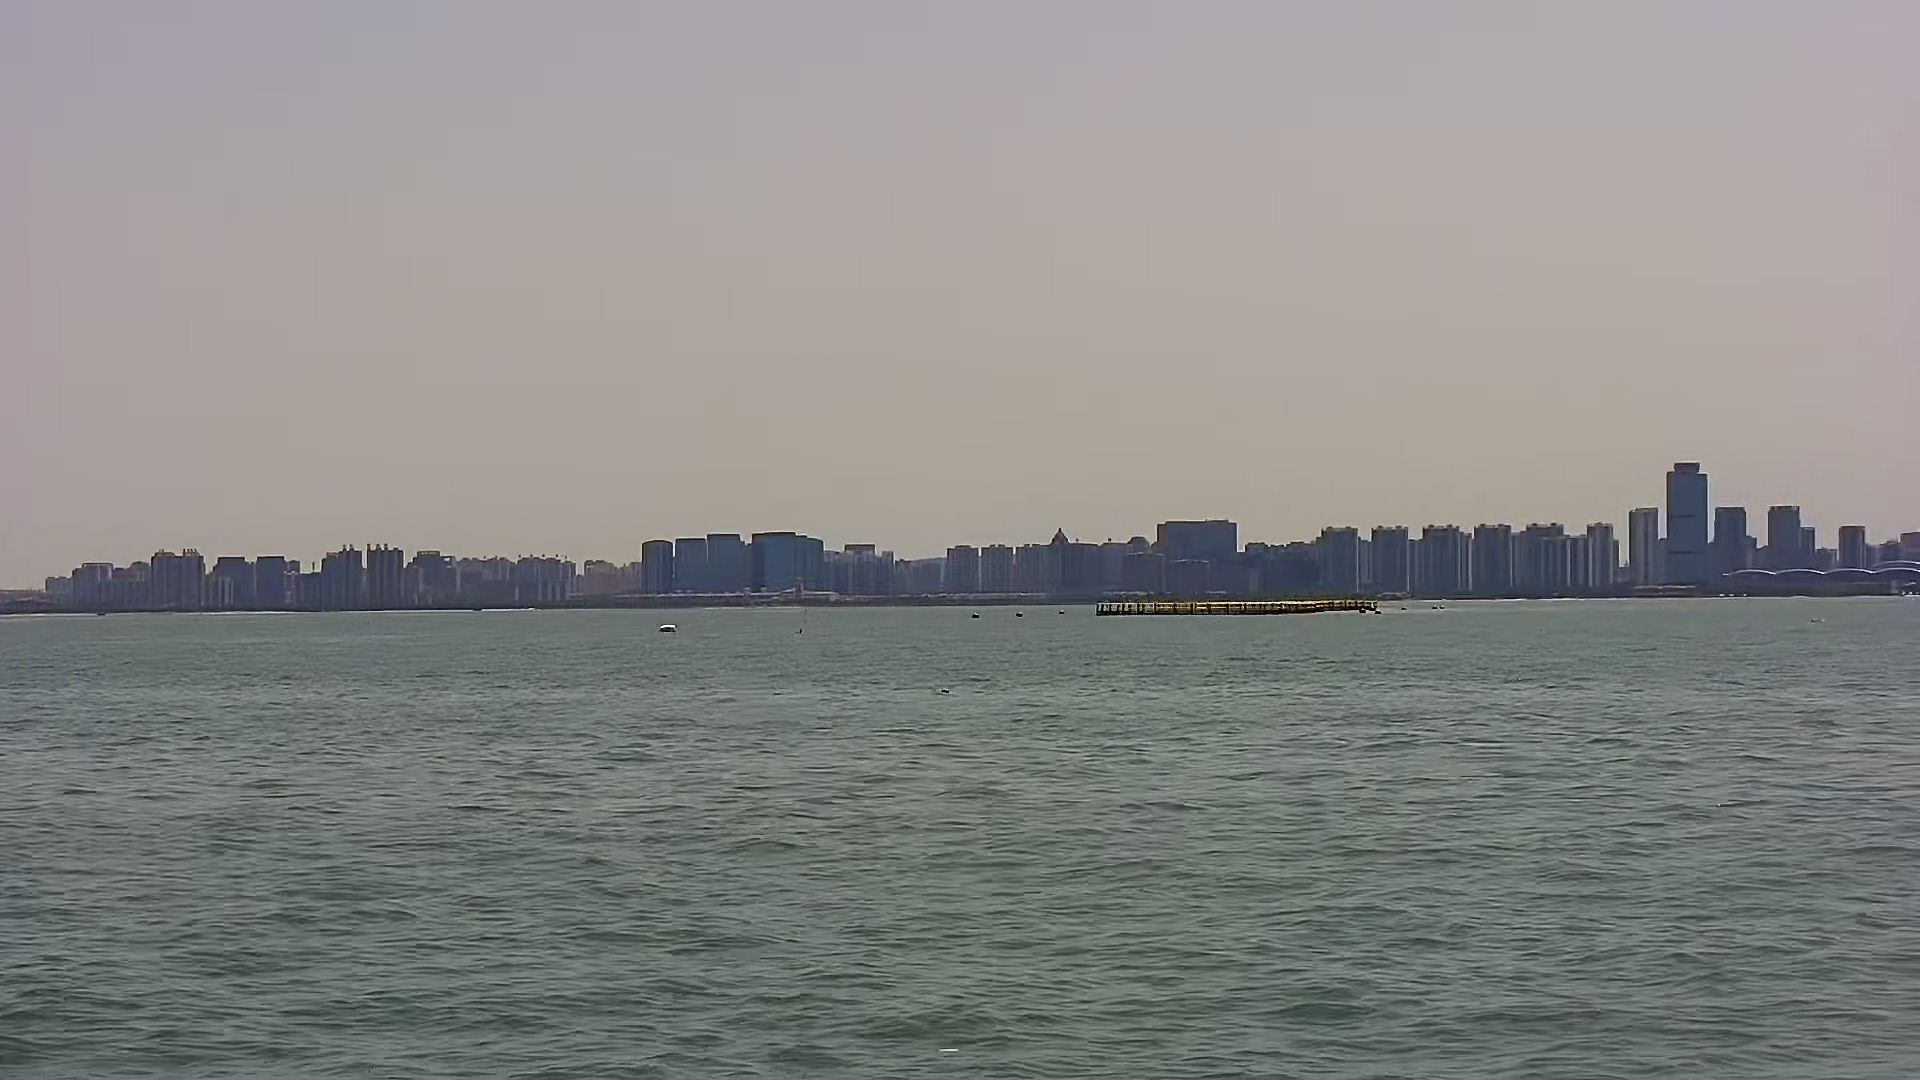platform: (1093, 593, 1389, 622)
